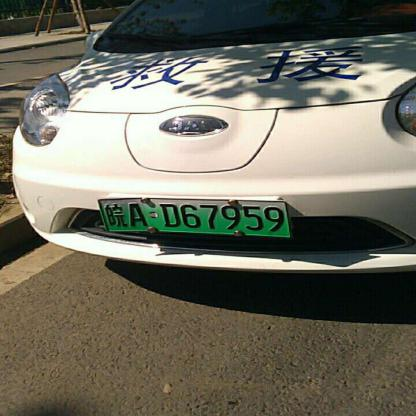lp: (97, 201, 290, 234)
